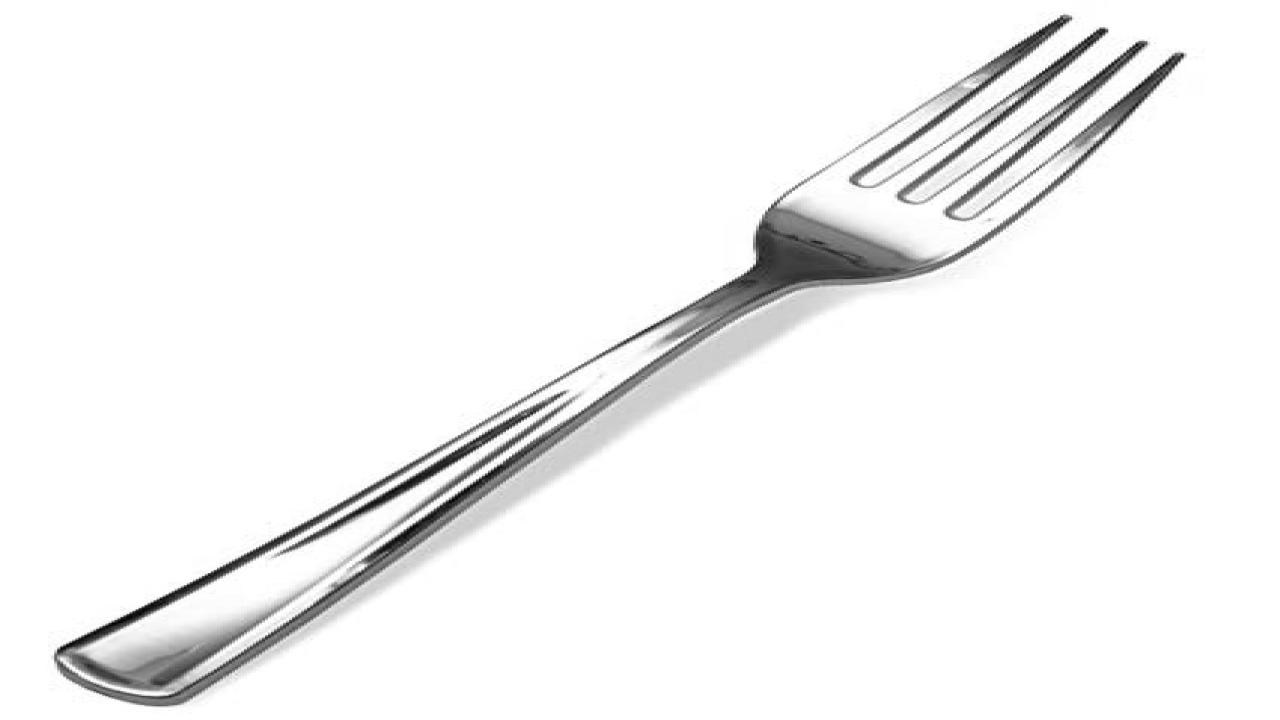fork: (51, 13, 1184, 704)
